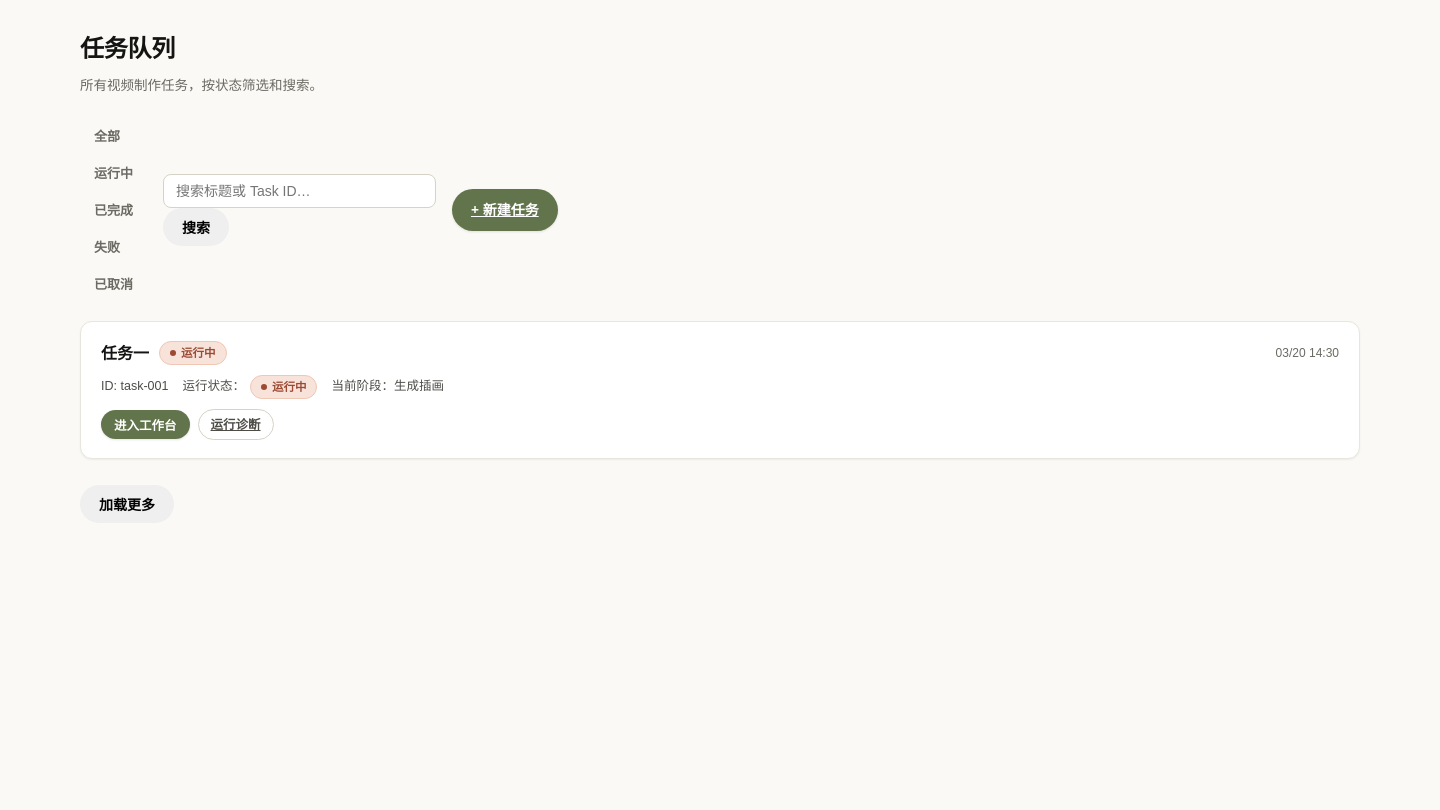
Test case: TasksPage (§3P production route evidence) › loads more items using next_cursor
Expected: the heading "任务一" is shown, [101, 340, 149, 367]
Click the button "加载更多". click: [127, 504]
box: [80, 485, 174, 523]
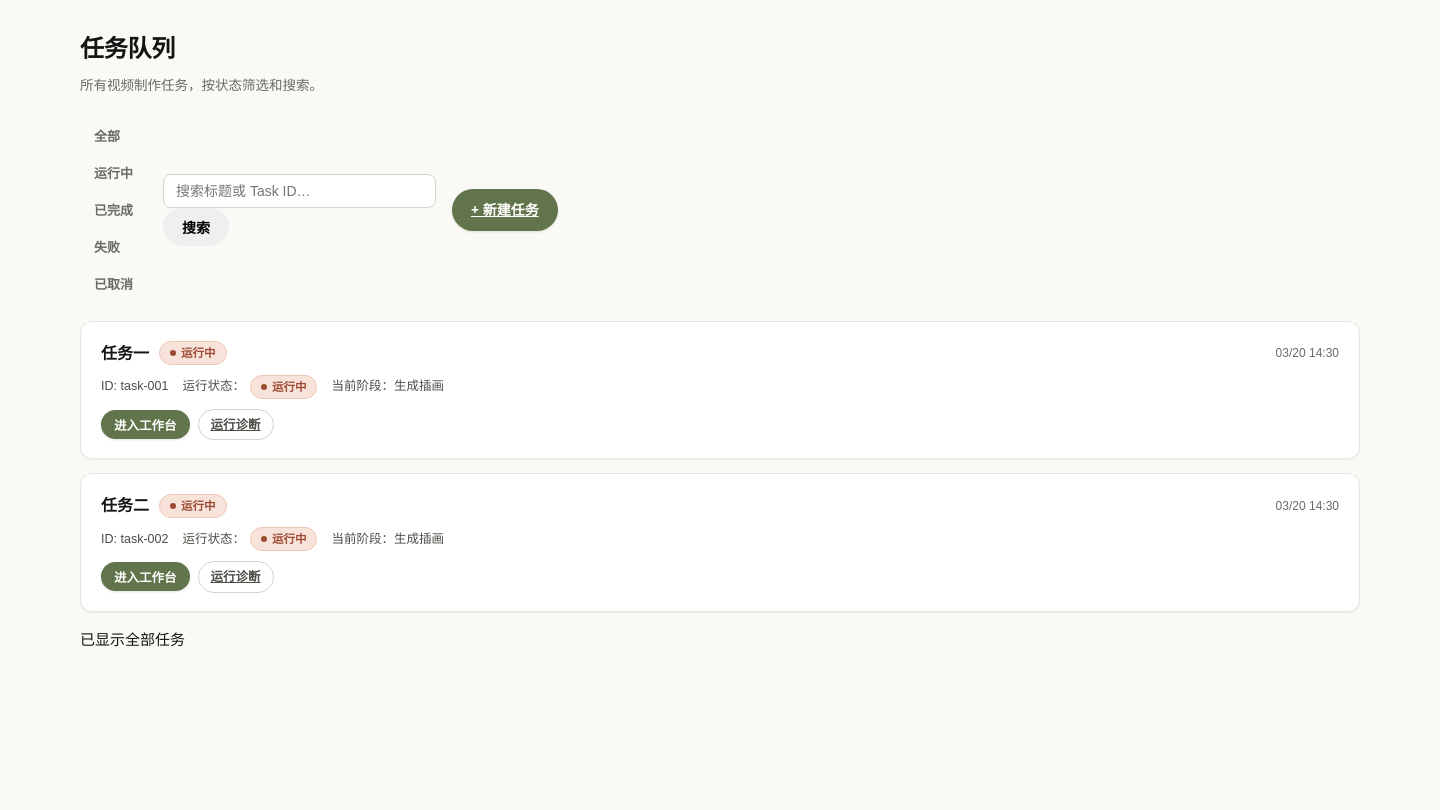
Result: the heading "任务二" is shown at [101, 492, 149, 519]
